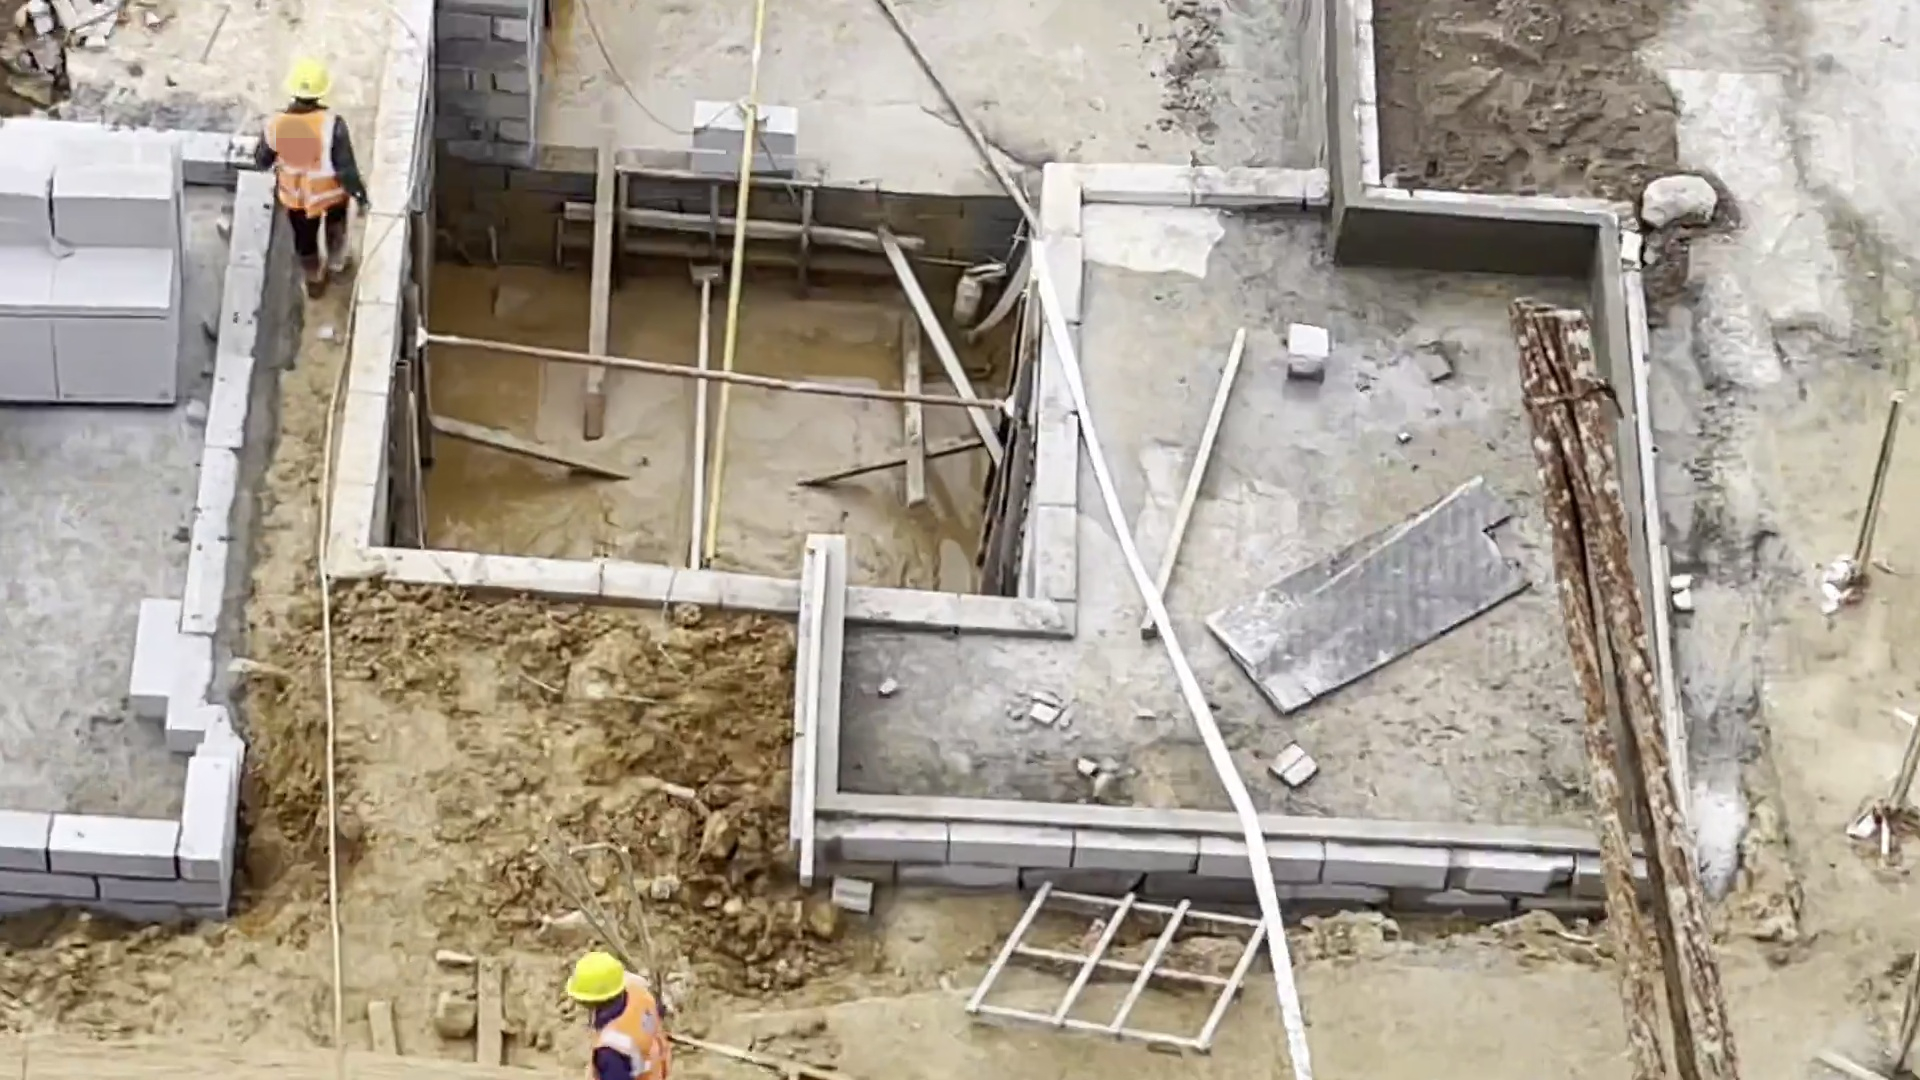helmet: (566, 947, 625, 1010), (282, 59, 332, 100)
person: (255, 63, 375, 308), (558, 950, 664, 1080)
vest: (258, 108, 353, 208), (586, 969, 663, 1080)
